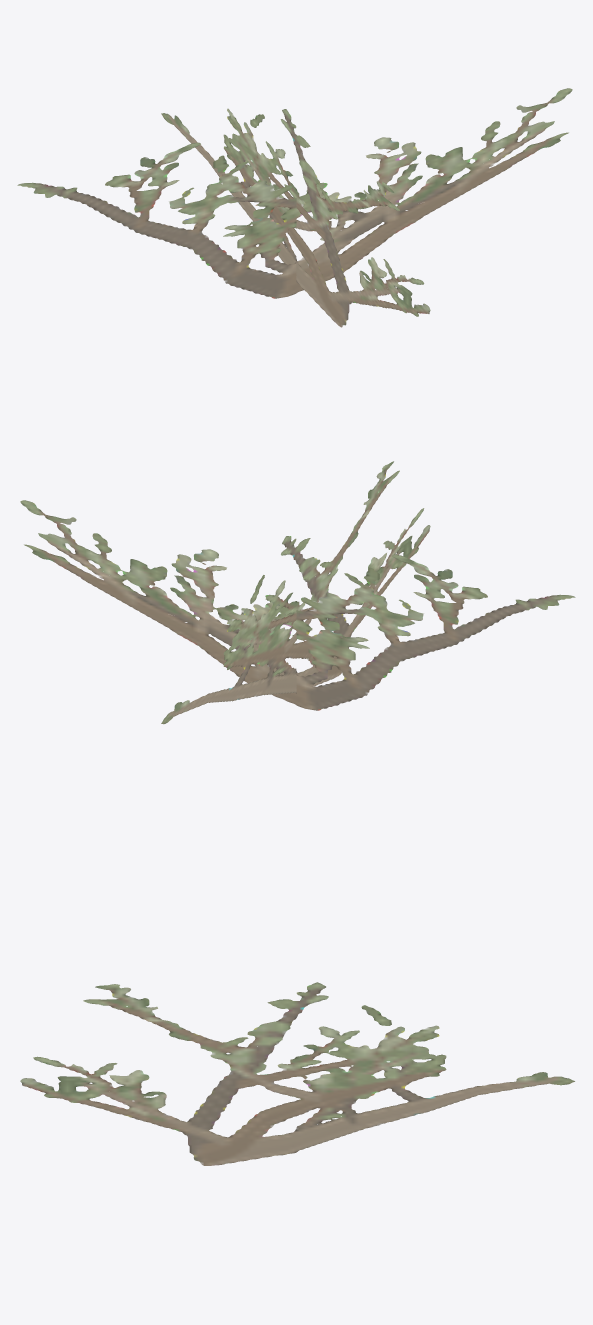
Rendered from valley-sage-far.glb.
The picture shows the model from 3 angles, top to bottom: view 1: azimuth 30°, elevation 25°; view 2: azimuth 150°, elevation 25°; view 3: azimuth 270°, elevation 25°; orthographic projection. The views are drawn at different scales.
Size of the model in its own units: 0.7822 by 0.2422 by 0.6575.
Materials: 1 (1 with a texture image).
